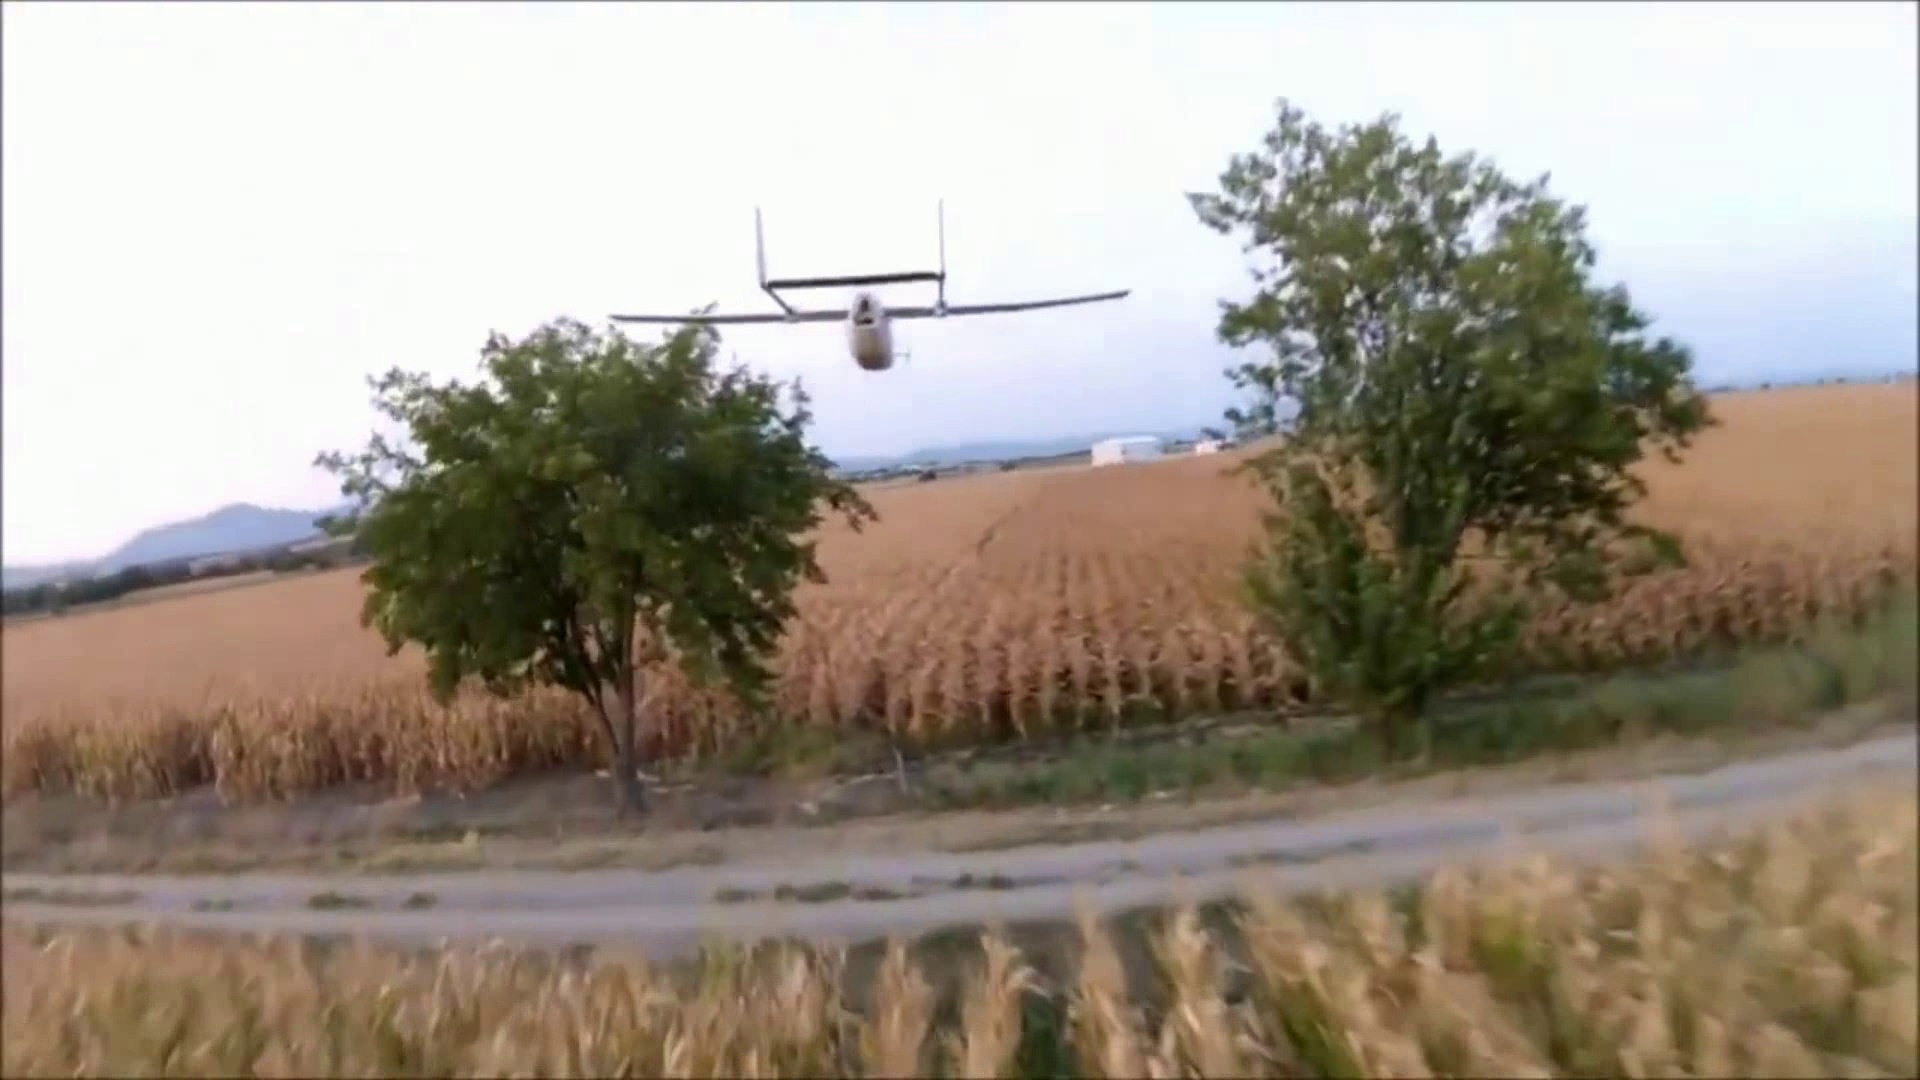airplane: (611, 198, 1134, 375)
